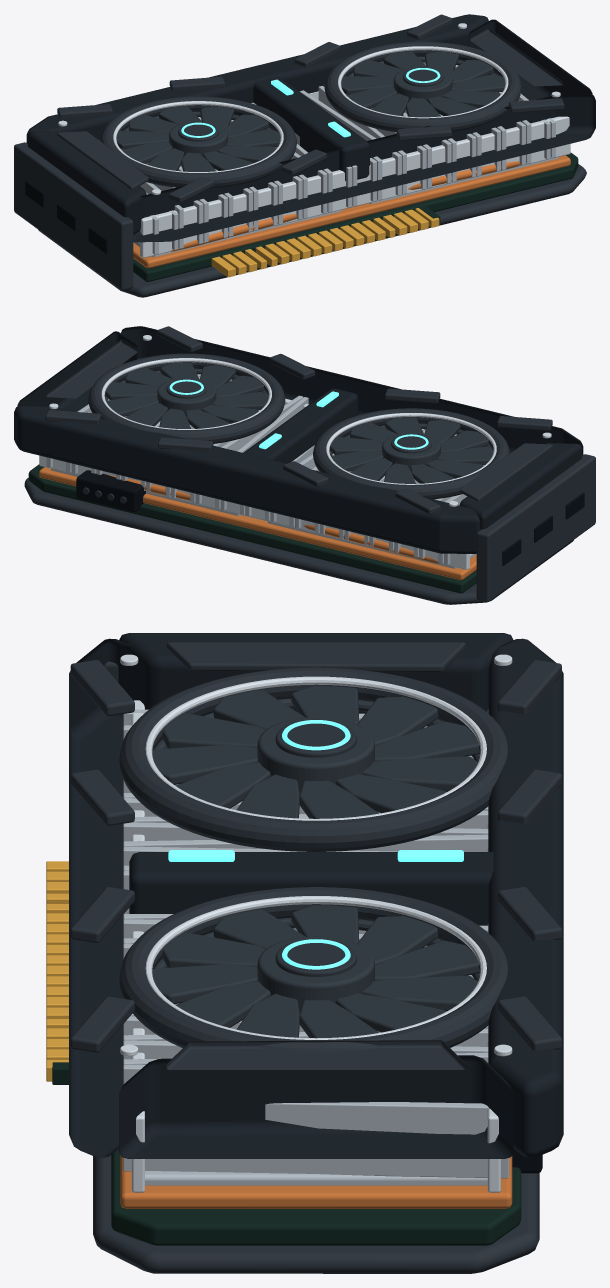
File: gpu.glb
3 renders of one model, top to bottom at view 1: azimuth 30°, elevation 25°; view 2: azimuth 150°, elevation 25°; view 3: azimuth 270°, elevation 25°, orthographic. The views are drawn at different scales.
Parts seen in each view (by area): view 1: Shroud, Fins, PCB, FanB, FanA, Backplate; view 2: Shroud, PCB, Fins, FanA, FanB, Backplate; view 3: Shroud, Fins, FanA, FanB, PCB, Backplate.
Part boxes in pixels (x1,y1,x2,y2): Shroud: [26, 14, 595, 242]; Fins: [99, 62, 570, 268]; PCB: [14, 142, 578, 290]; FanB: [341, 51, 505, 117]; FanA: [116, 106, 280, 171]; Backplate: [38, 164, 586, 297]; Shroud: [14, 326, 583, 553]; PCB: [28, 454, 595, 602]; Fins: [39, 374, 484, 580]; FanA: [329, 417, 493, 483]; FanB: [105, 362, 268, 428]; Backplate: [24, 478, 573, 604]; Shroud: [69, 633, 563, 1158]; Fins: [120, 700, 512, 1208]; FanA: [152, 686, 480, 818]; FanB: [152, 905, 480, 1038]; PCB: [46, 661, 542, 1245]; Backplate: [93, 1155, 539, 1273].
Size of the model in its own units: 3.68 by 0.766 by 1.72.
